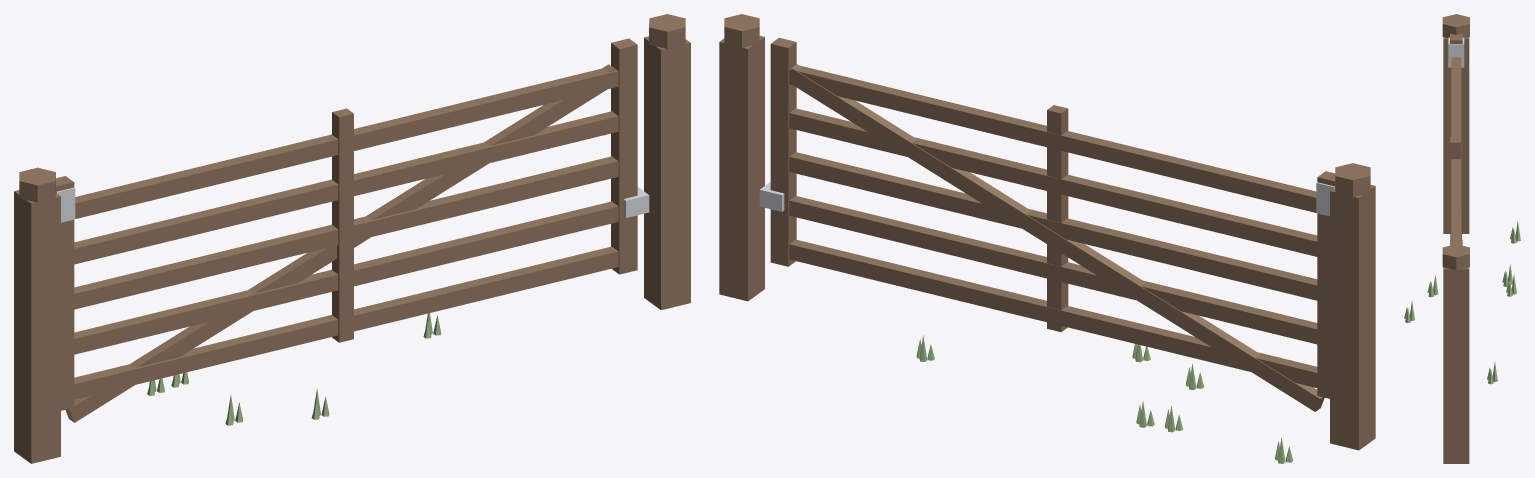
Rendered from hot-air-balloon-festival-field-gate-fc69bf0a__38493.glb.
3 renders of one model, left to right at view 1: azimuth 30°, elevation 25°; view 2: azimuth 150°, elevation 25°; view 3: azimuth 270°, elevation 25°, orthographic. The views are drawn at different scales.
Visible parts, largest first — view 1: gate/leather, field-gate-leather, field-gate-grass, gate/steel; view 2: gate/leather, field-gate-leather, field-gate-grass, gate/steel; view 3: field-gate-leather, gate/leather, field-gate-grass, gate/steel.
Part boxes in pixels (x1,y1,x2,y2): gate/leather: [56, 38, 637, 422]; field-gate-leather: [14, 14, 690, 463]; field-gate-grass: [147, 313, 440, 425]; gate/steel: [56, 187, 649, 222]; gate/leather: [770, 37, 1335, 411]; field-gate-leather: [719, 14, 1375, 450]; field-gate-grass: [916, 335, 1293, 463]; gate/steel: [759, 182, 1334, 216]; field-gate-leather: [1442, 14, 1469, 463]; gate/leather: [1450, 33, 1462, 245]; field-gate-grass: [1404, 221, 1520, 384]; gate/steel: [1448, 37, 1464, 67].
Size of the model in its own units: 4.02 by 1.6 by 0.8158.
